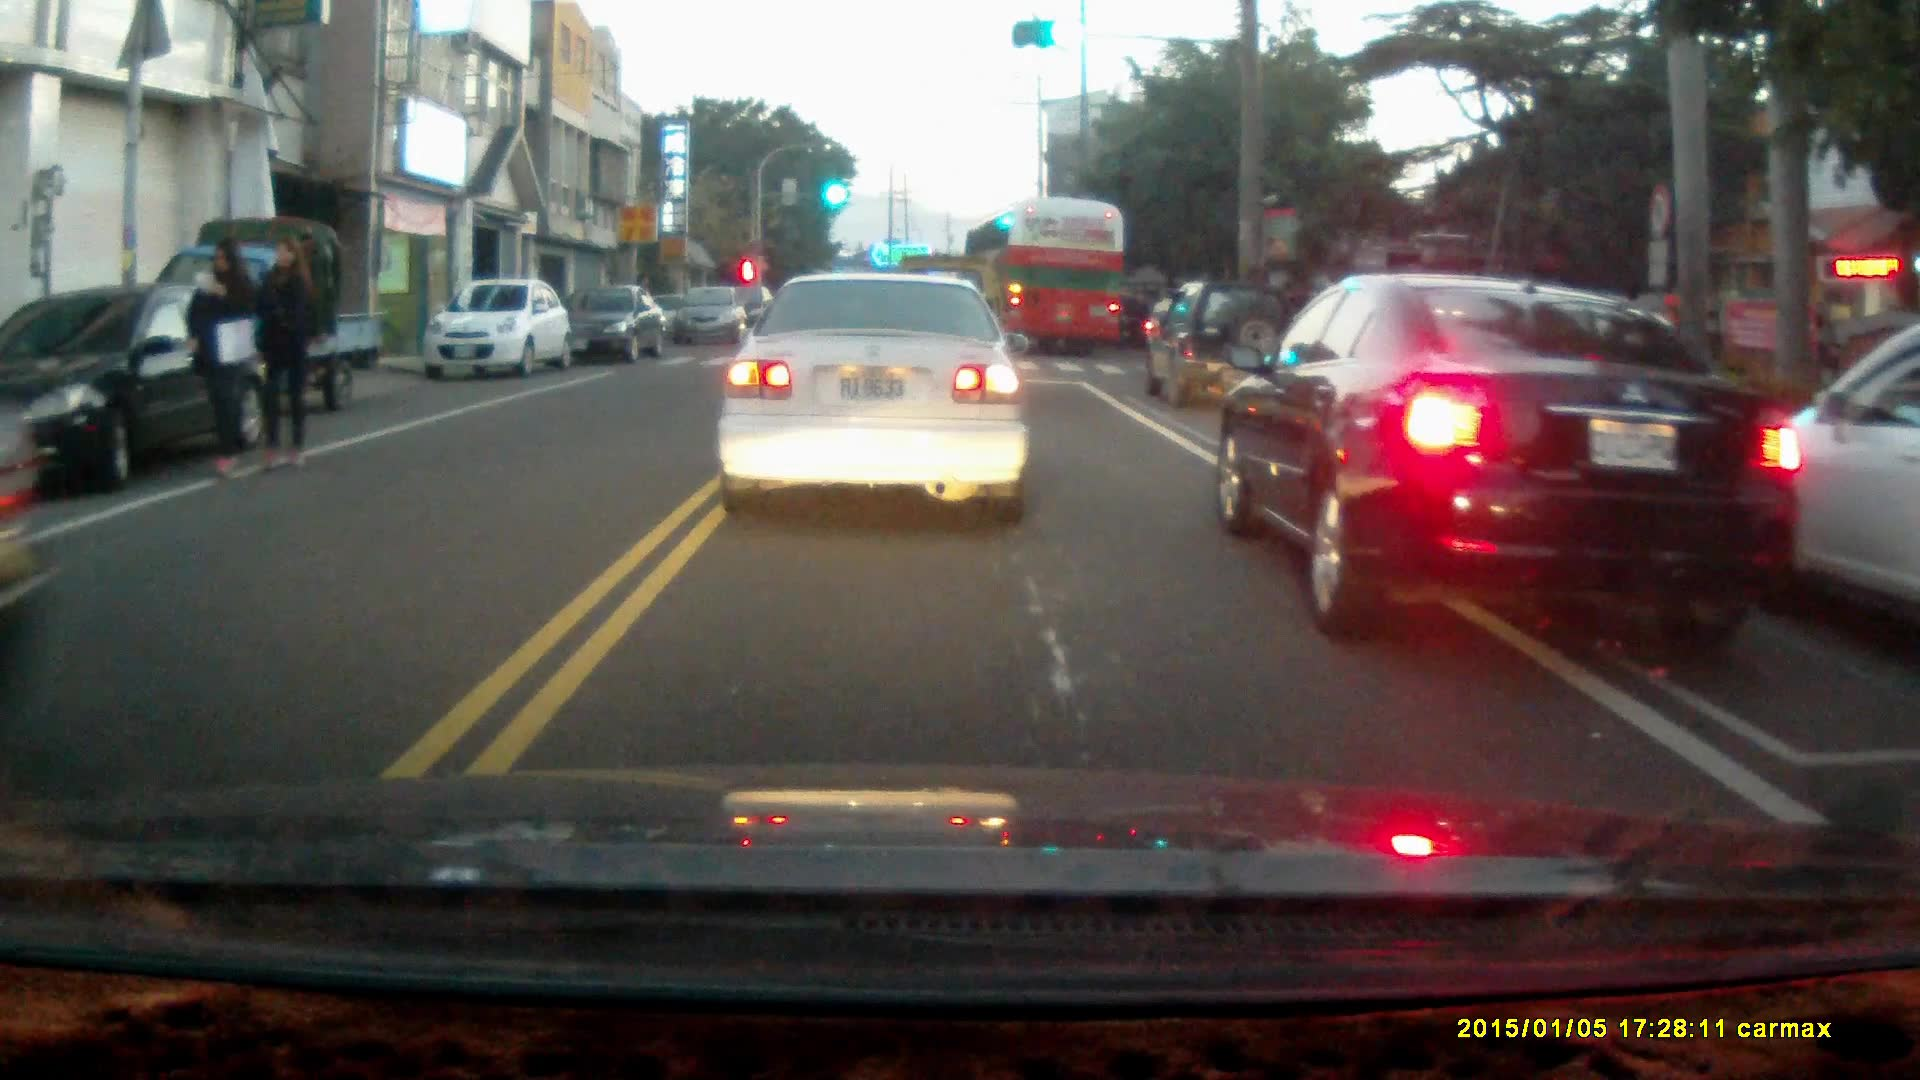pedestrian: (185, 235, 257, 479), (253, 233, 313, 461)
vehicle: (1215, 274, 1810, 631), (714, 266, 1030, 523), (1704, 327, 1920, 611), (1, 278, 278, 486), (146, 213, 391, 414), (963, 199, 1124, 358), (1150, 279, 1289, 408), (424, 279, 576, 380), (560, 278, 671, 367), (673, 286, 754, 345)
